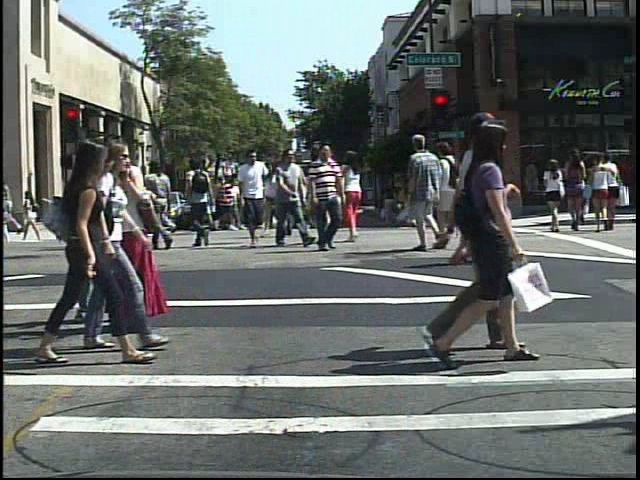person: (428, 113, 551, 374), (37, 128, 155, 370), (437, 109, 536, 361), (93, 131, 173, 335), (90, 136, 150, 353), (81, 134, 126, 334), (460, 127, 515, 264), (299, 143, 348, 255), (435, 136, 474, 256), (409, 132, 446, 256), (307, 140, 348, 251), (268, 143, 306, 252), (237, 146, 273, 255), (337, 146, 374, 248), (184, 154, 216, 250), (540, 154, 568, 235), (152, 156, 175, 253), (215, 168, 238, 237), (64, 182, 84, 232)
